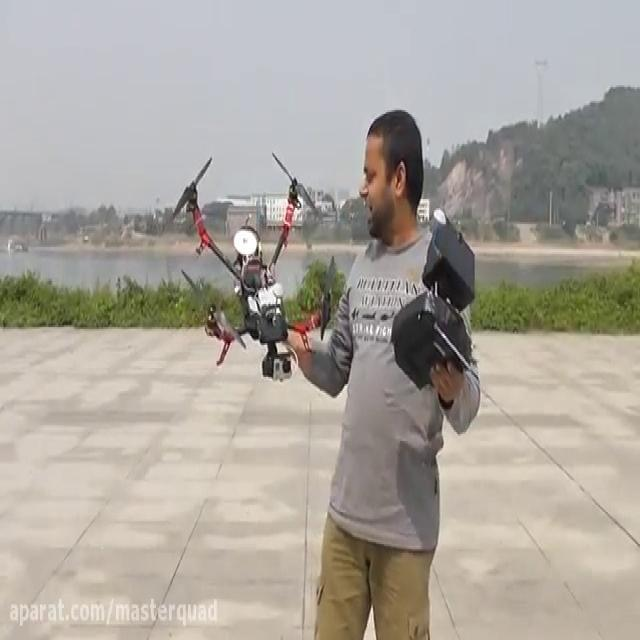drone: (168, 146, 338, 382)
